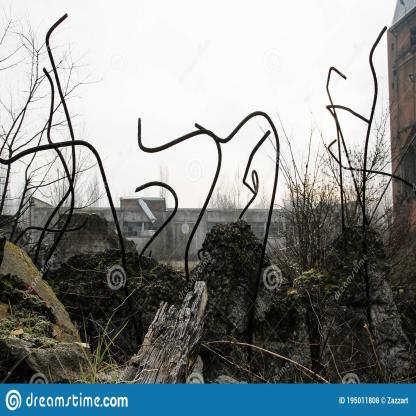rebar: (0, 137, 144, 343), (193, 108, 282, 363), (137, 115, 223, 289), (34, 14, 76, 262), (361, 24, 389, 326), (39, 66, 76, 280), (326, 65, 366, 211), (326, 104, 369, 236), (327, 136, 414, 190), (133, 179, 179, 256), (238, 127, 271, 221), (15, 214, 90, 245)
